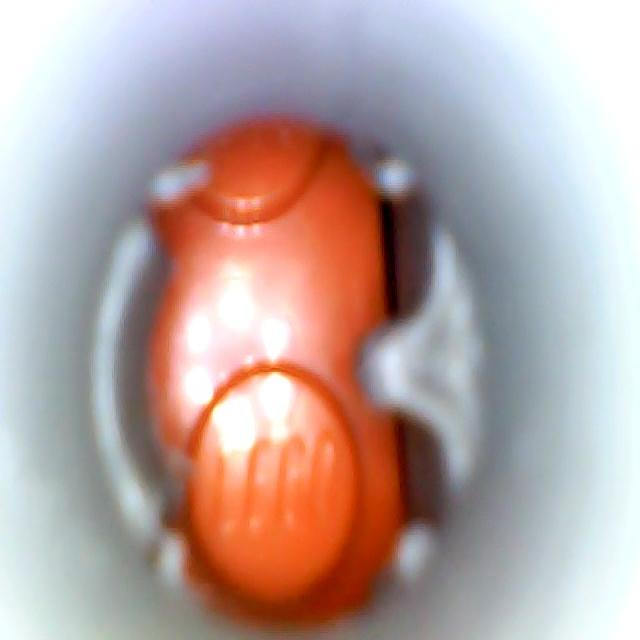studs: (189, 367, 358, 605), (198, 123, 332, 223)
